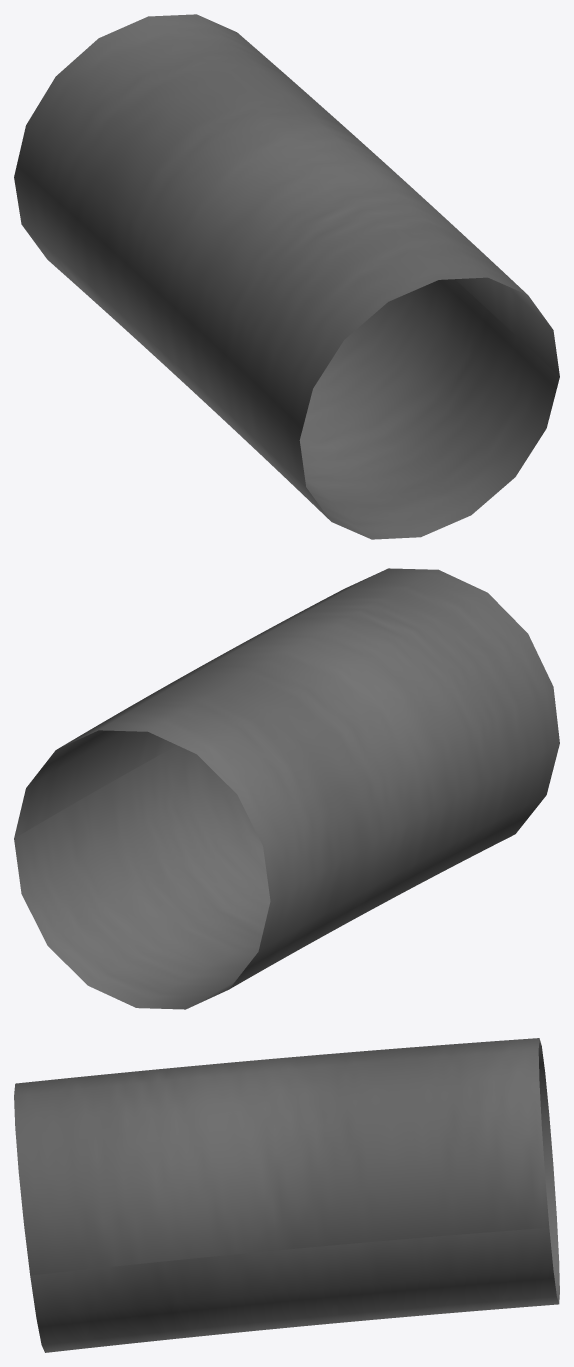
Rendered from mastarmcurve_10x2_c9.obj.
The picture shows the model from 3 angles, top to bottom: view 1: azimuth 30°, elevation 25°; view 2: azimuth 150°, elevation 25°; view 3: azimuth 270°, elevation 25°; orthographic projection. The views are drawn at different scales.
Parts seen in each view (by area): view 1: mastarm_10x2_c9; view 2: mastarm_10x2_c9; view 3: mastarm_10x2_c9.
Part boxes in pixels (left/top/right/bottom): mastarm_10x2_c9: left=14, top=14, right=559, bottom=539; mastarm_10x2_c9: left=14, top=568, right=559, bottom=1009; mastarm_10x2_c9: left=14, top=1038, right=559, bottom=1352.
Bounding box in the file's own units: 0.5225 × 0.6161 × 1.05.
